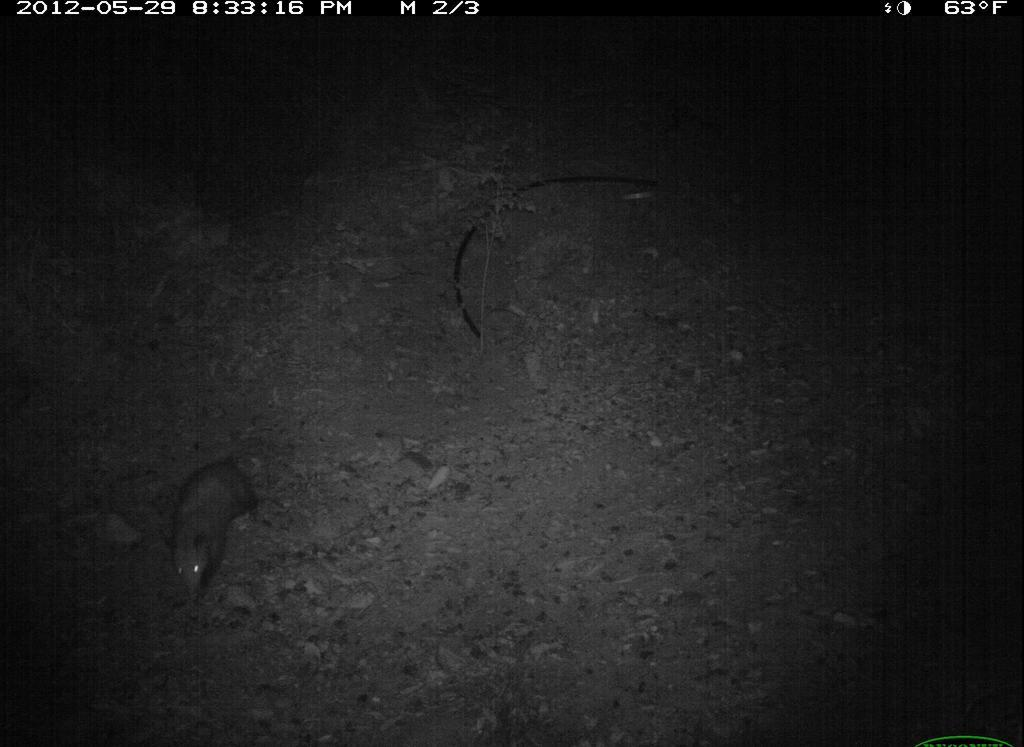opossum: (164, 450, 267, 600)
